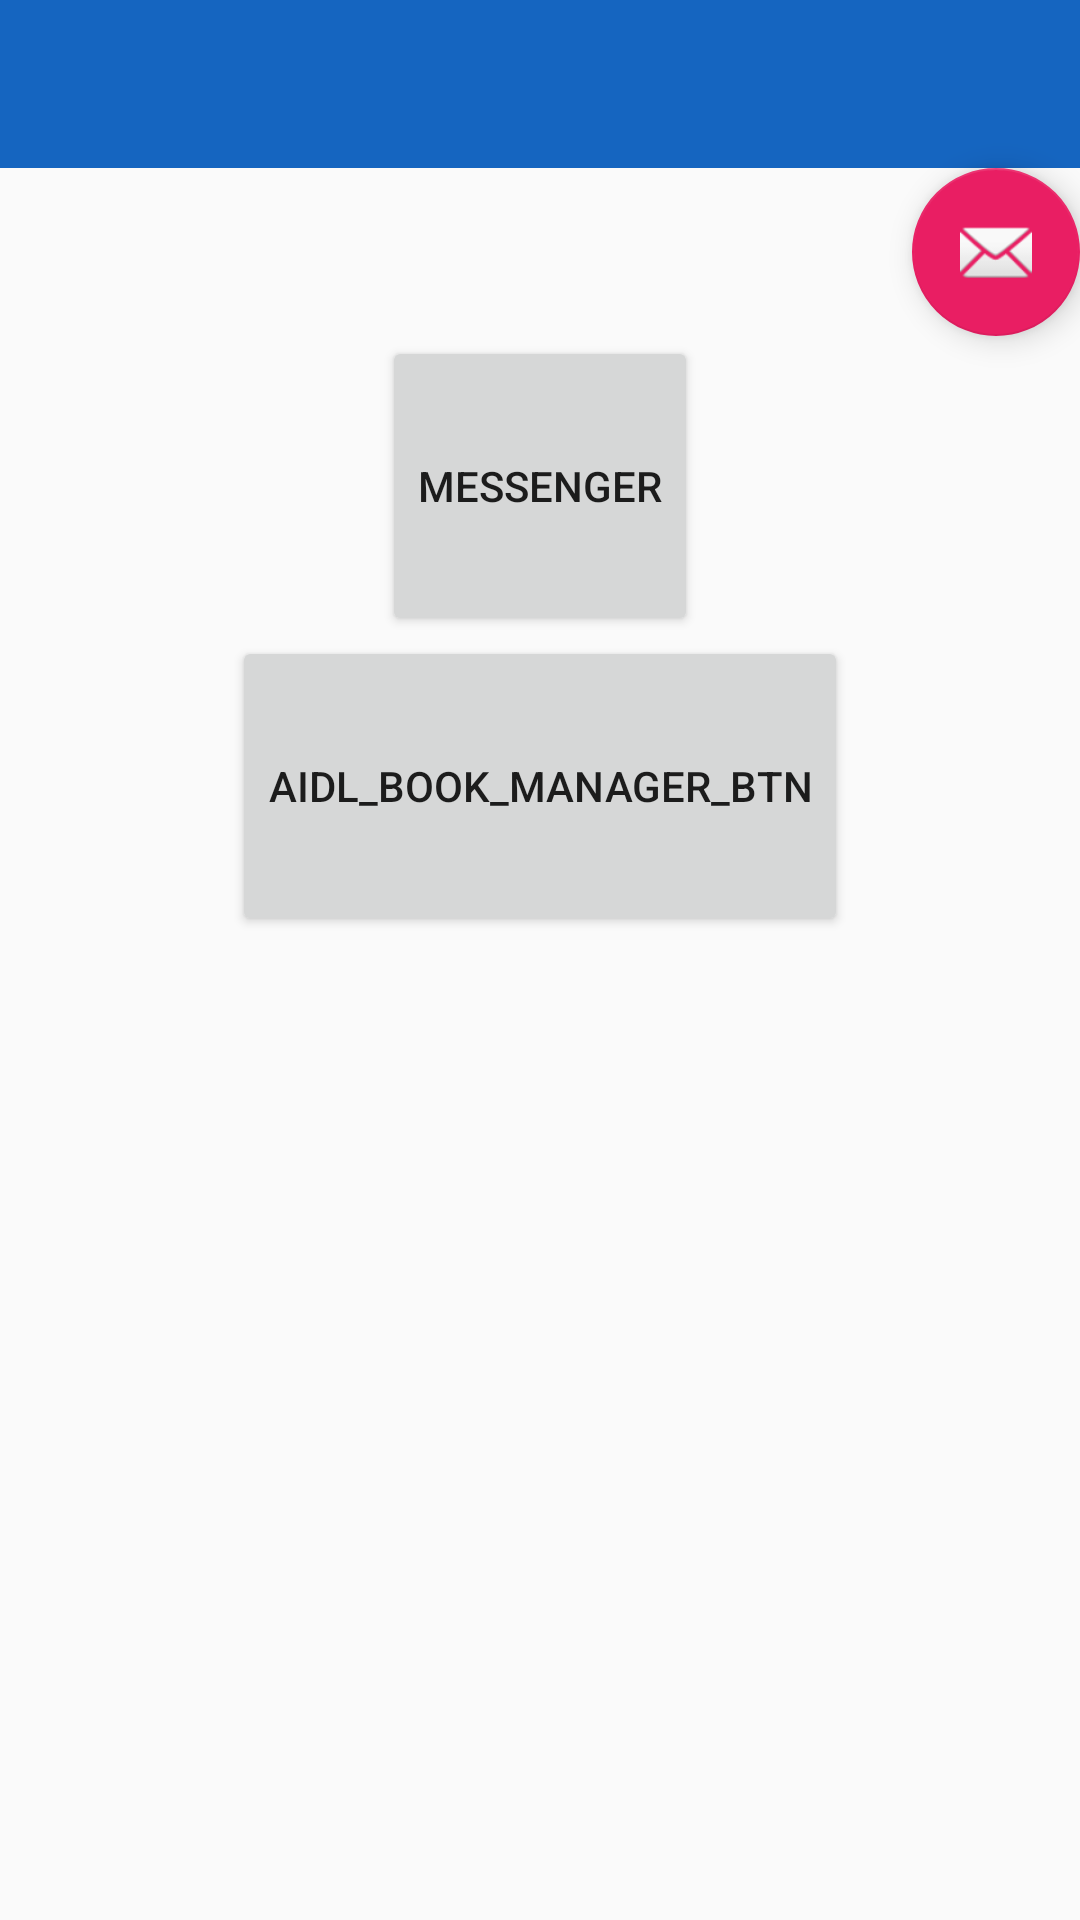

Named icons in this screenshot (1080*1920) and their centers, point (x, y):
email: point (996, 252)
